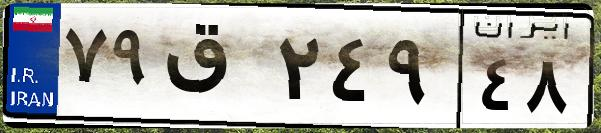2: (270, 28, 330, 110)
4: (330, 28, 385, 110), (475, 38, 525, 113)
7: (57, 26, 110, 100)
8: (525, 38, 570, 115)
9: (385, 28, 445, 110), (110, 28, 158, 98)
ق: (158, 20, 270, 120)
